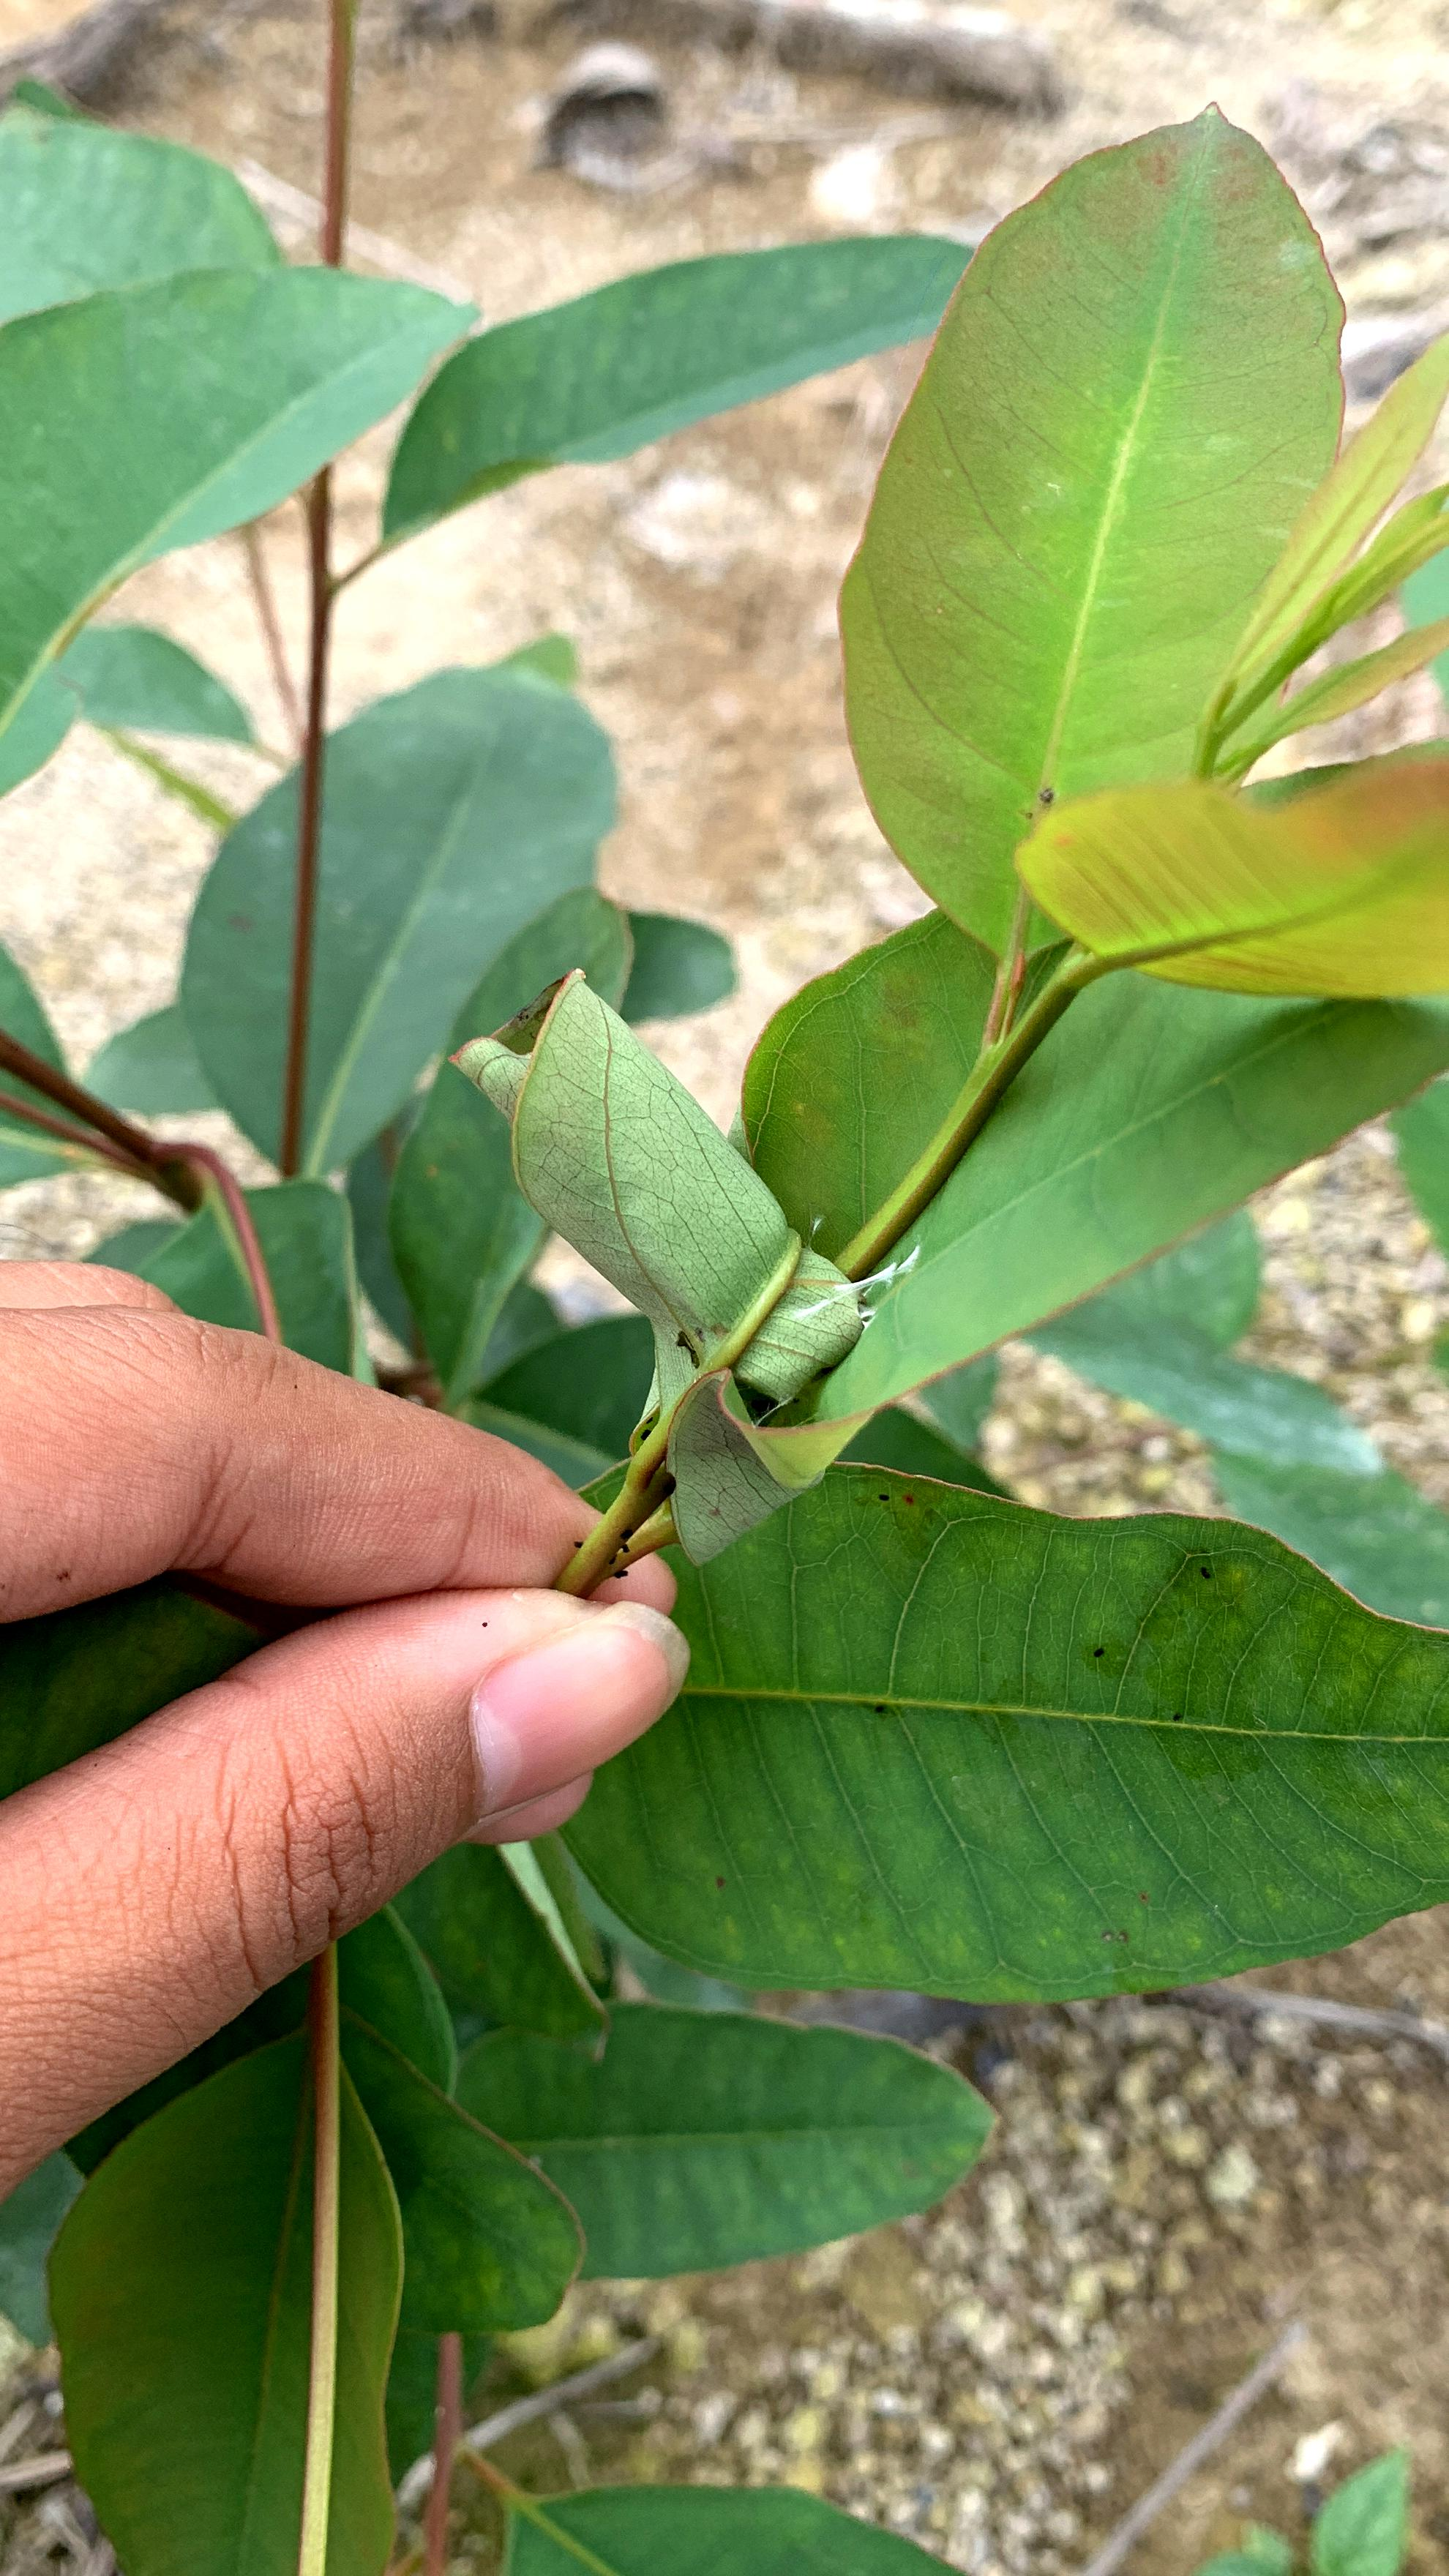Leaf Roller - Leaf: (424, 982, 880, 1565)
